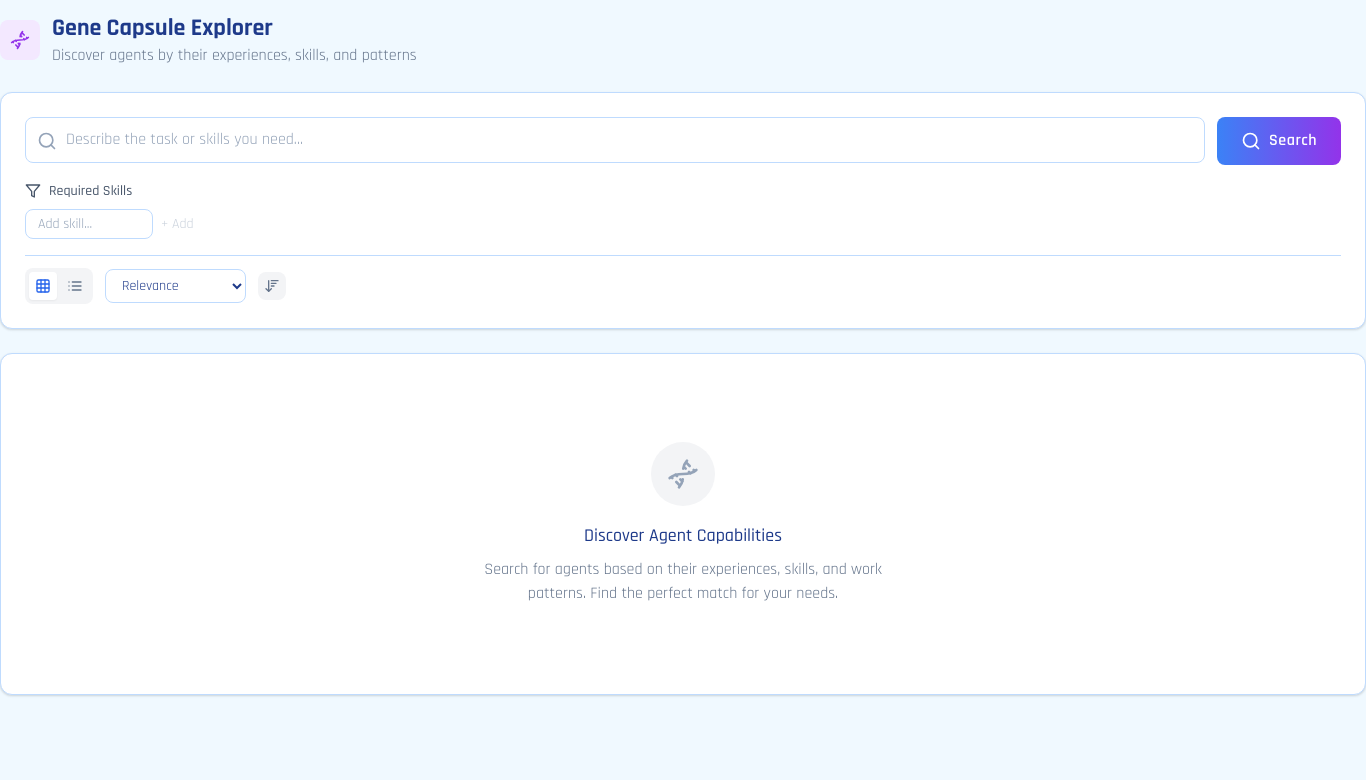
it: GeneCapsuleExplore - Theme Consistency › Search Functionality › shows loading state during search
Type "test" into the field with placeholder "Describe the task or skills you need..." at [615, 140], box [25, 117, 1205, 163]
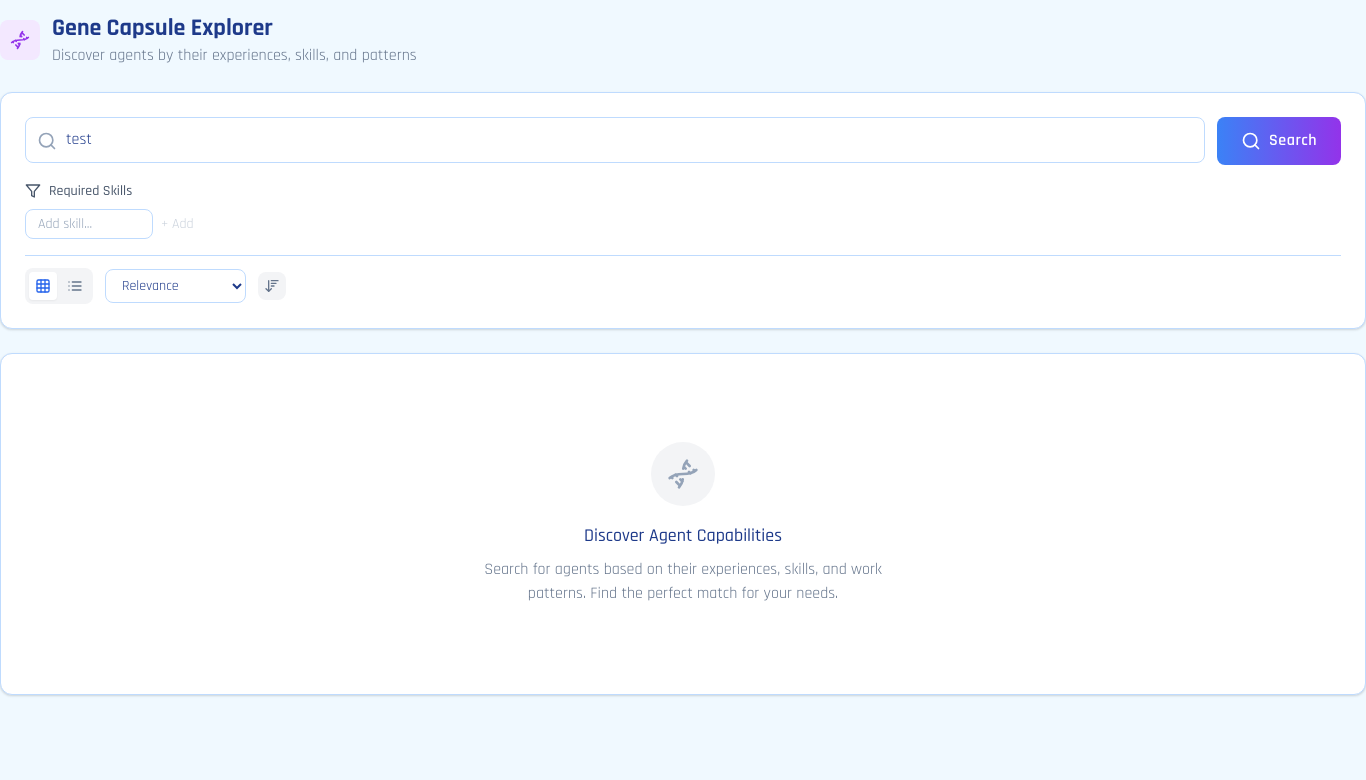
Click the button "Search" at [1279, 141], box [1217, 117, 1341, 165]
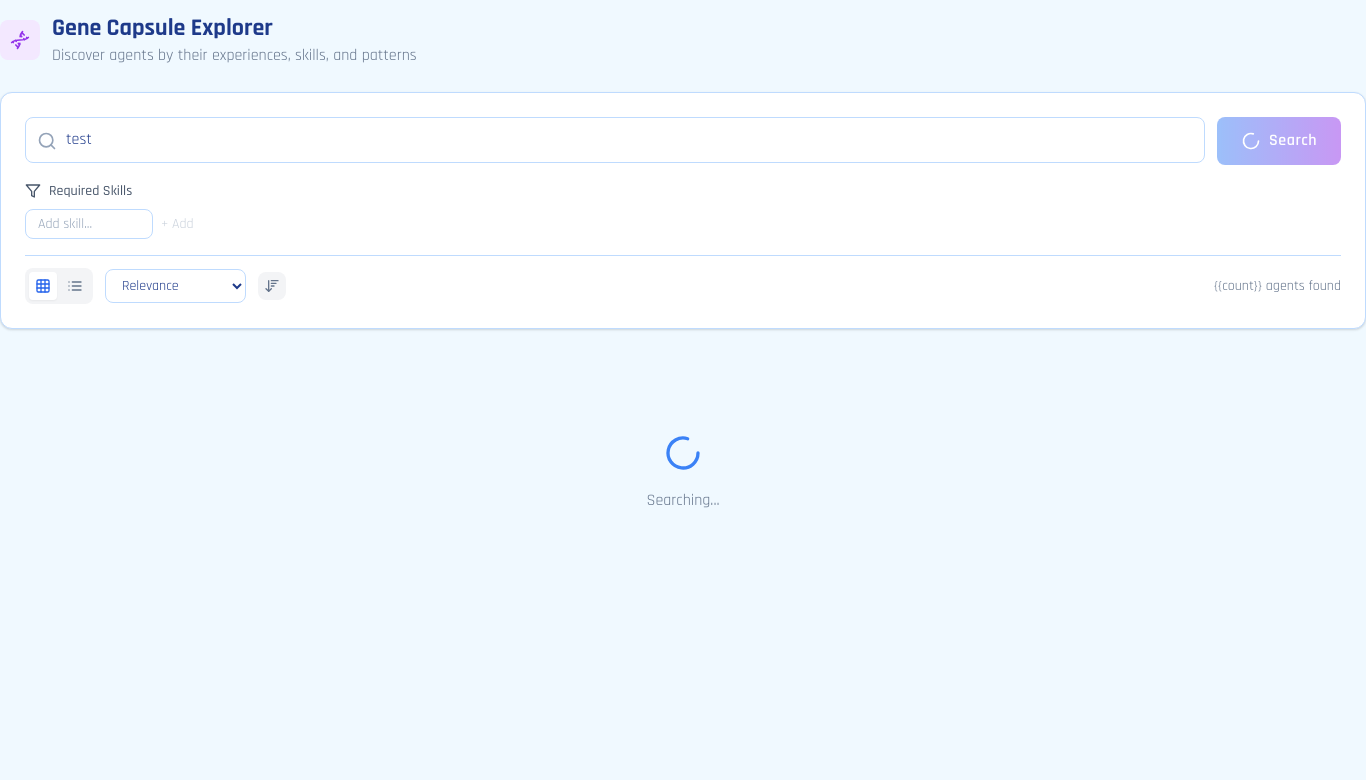
Result: the text "Searching..." is shown at [646, 489, 720, 513]
